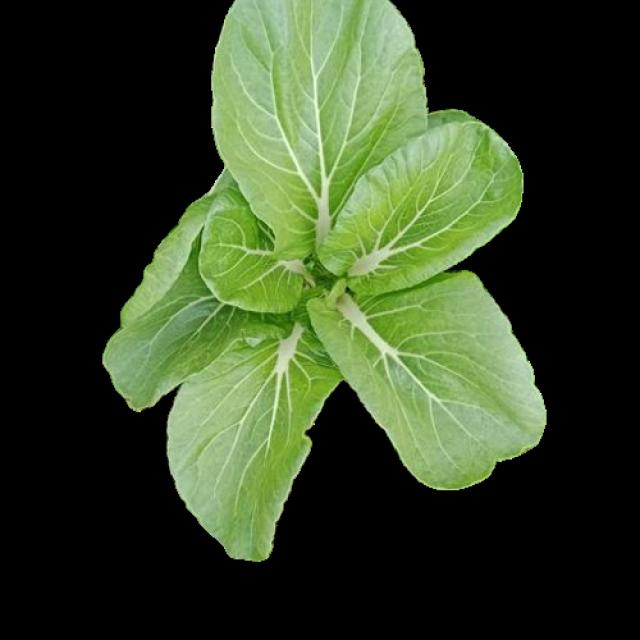healthy: (101, 1, 543, 557)
mature: (104, 1, 545, 557)
